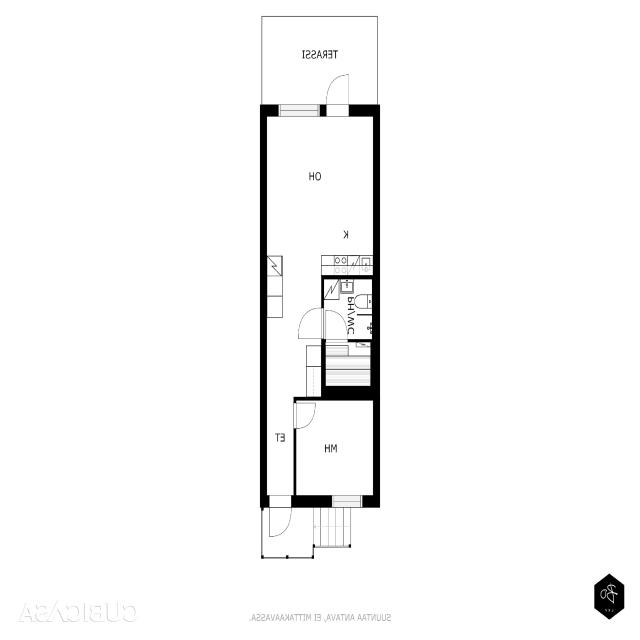door: (293, 395, 375, 497), (324, 70, 353, 119), (295, 304, 326, 342), (266, 498, 294, 540), (322, 305, 350, 343), (291, 396, 319, 432)
window: (273, 100, 326, 119), (327, 491, 366, 510)
zone: (263, 106, 377, 277), (263, 274, 319, 497), (294, 396, 377, 499), (322, 277, 373, 339), (322, 339, 372, 392)
